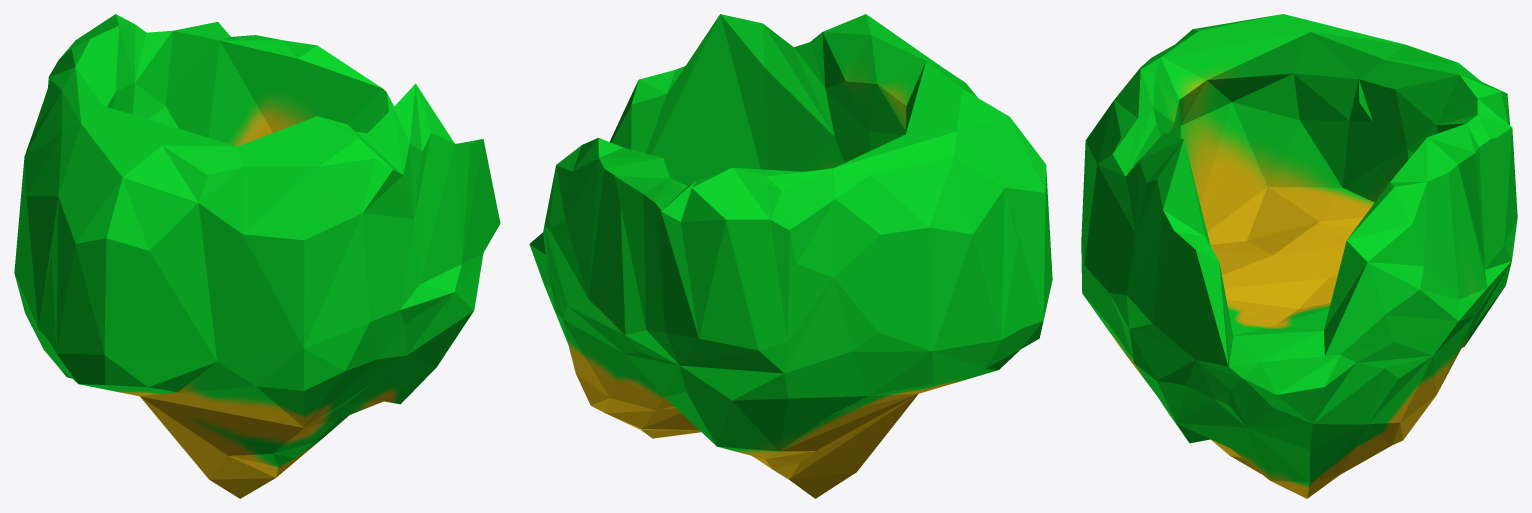
The model's file is landStart.obj.
3 views of the same model, side by side, from view 1: azimuth 30°, elevation 25°; view 2: azimuth 150°, elevation 25°; view 3: azimuth 270°, elevation 25° (orthographic). The views are drawn at different scales.
Visible parts, largest first — view 1: Ico_球體.006; view 2: Ico_球體.006; view 3: Ico_球體.006.
Boxes of the visible parts, box(x1,y1,x2,y2) form: Ico_球體.006: box(14, 14, 500, 498); Ico_球體.006: box(529, 14, 1052, 498); Ico_球體.006: box(1081, 14, 1517, 498).
Bounding box in the file's own units: 299 × 267 × 256.
Materials: 1 (1 with a texture image).
